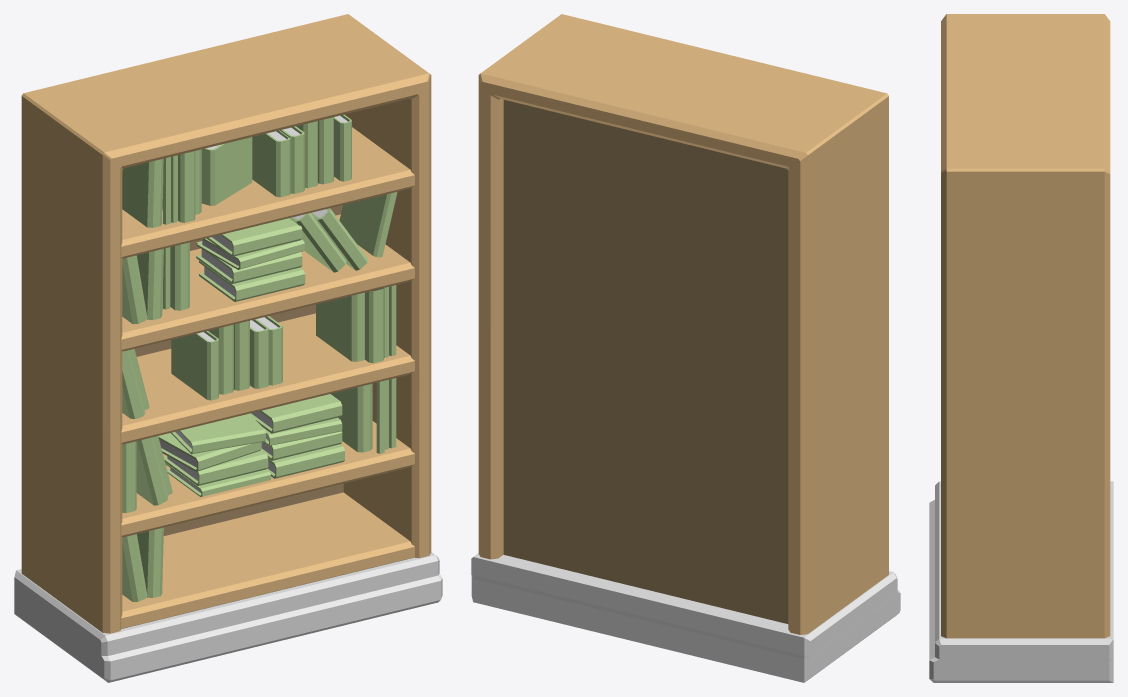
Rendered from bookshelf_01.fbx.
The picture shows the model from 3 angles, left to right: view 1: azimuth 30°, elevation 25°; view 2: azimuth 150°, elevation 25°; view 3: azimuth 270°, elevation 25°; orthographic projection. The views are drawn at different scales.
Visible parts, largest first — view 1: pCube320, polySurface103, pCube326, pCube321, pCube323, pCube325, pCube324, pCube322, pCube345, pCube351; view 2: pCube345, pCube320, pCube326; view 3: pCube320, pCube326.
Part boxes in pixels (x1,y1,x2,y2): pCube320: (21,14,431,633); polySurface103: (122,114,384,601); pCube326: (14,552,442,682); pCube321: (121,492,414,628); pCube323: (121,313,414,444); pCube325: (121,127,414,258); pCube324: (121,214,414,351); pCube322: (121,421,414,537); pCube345: (134,205,343,535); pCube351: (339,191,397,257); pCube345: (503,100,788,623); pCube320: (478,14,888,634); pCube326: (471,553,900,682); pCube320: (941,14,1110,638); pCube326: (929,481,1113,682).
Bounding box in the file's own units: 7.14 × 10.59 × 3.45.
